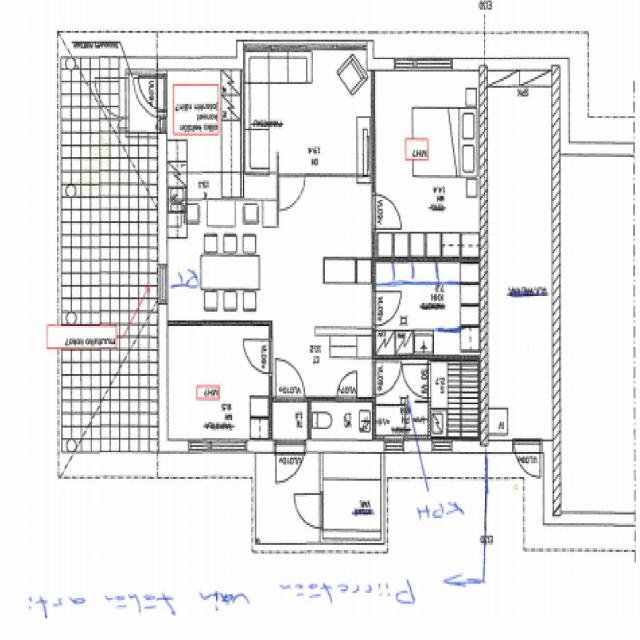door: (89, 77, 130, 117), (275, 439, 304, 491), (275, 358, 305, 403), (131, 74, 167, 110), (372, 194, 402, 230), (292, 494, 322, 529), (401, 364, 431, 398), (243, 339, 272, 373), (373, 291, 402, 325), (373, 362, 401, 396), (336, 372, 356, 402), (144, 110, 168, 129), (108, 116, 130, 130)
